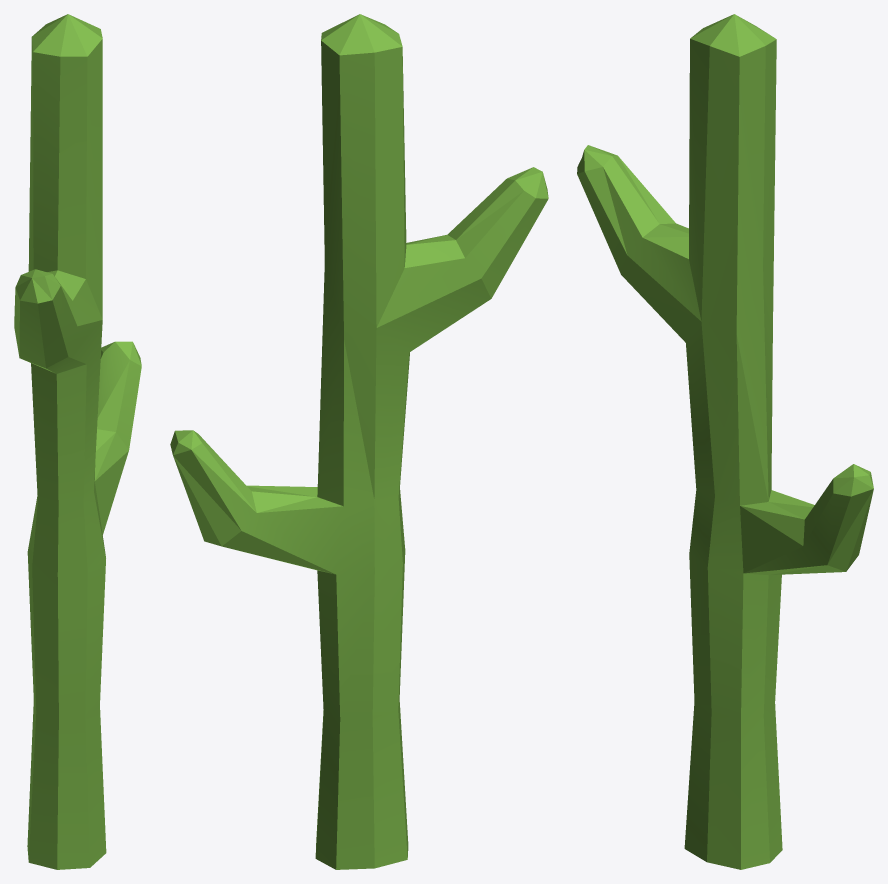
Rendered from cactus1.fbx.
3 views of the same model, side by side, from view 1: azimuth 30°, elevation 25°; view 2: azimuth 150°, elevation 25°; view 3: azimuth 270°, elevation 25° (orthographic).
Visible parts, largest first — view 1: cactus1:Mesh; view 2: cactus1:Mesh; view 3: cactus1:Mesh.
Part boxes in pixels (x1=…): cactus1:Mesh: x1=14, y1=14, x2=141, y2=869; cactus1:Mesh: x1=170, y1=14, x2=548, y2=869; cactus1:Mesh: x1=577, y1=14, x2=873, y2=869.
Size of the model in its own units: 19.94 by 63.99 by 20.59.
1 material, 1 textured.
